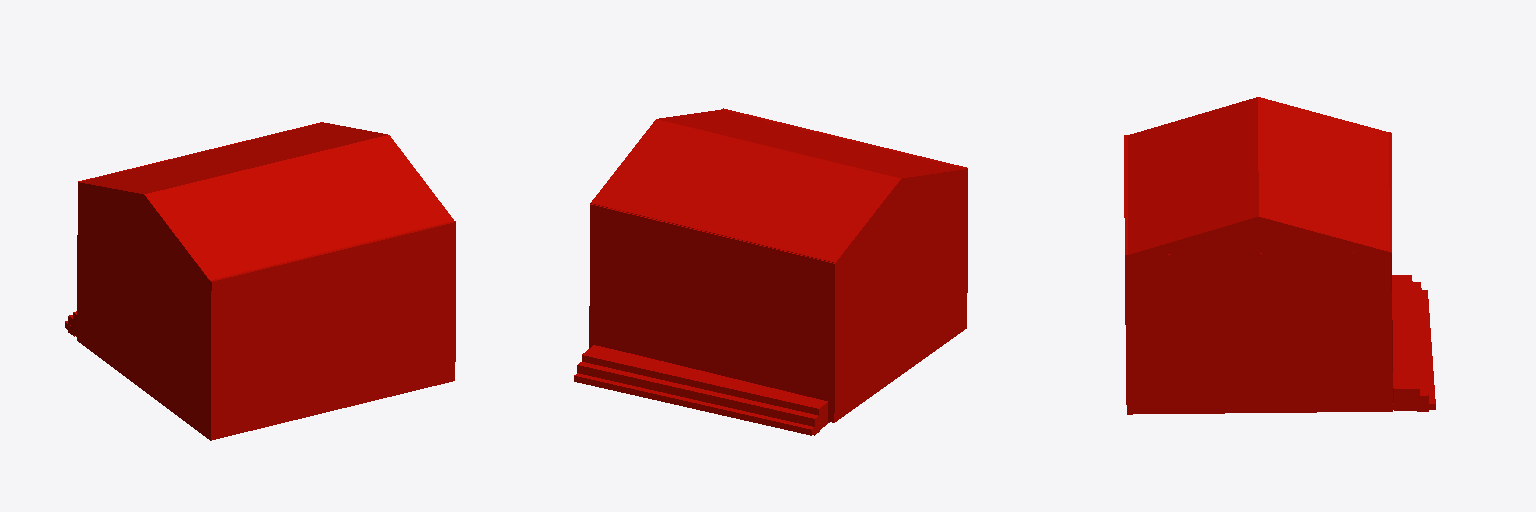
Rendered from Housebody_LOD0.obj.
3 views of the same model, side by side, from view 1: azimuth 30°, elevation 25°; view 2: azimuth 150°, elevation 25°; view 3: azimuth 270°, elevation 25° (orthographic).
Parts seen in each view (by area): view 1: Cube, Cube.006_Cube.007; view 2: Cube, Cube.006_Cube.007, Cube.002; view 3: Cube, Cube.006_Cube.007, Cube.002.
Boxes of the visible parts, x1,y1,x2,y2 form: Cube: [77, 122, 455, 440]; Cube.006_Cube.007: [79, 122, 453, 280]; Cube: [589, 108, 967, 422]; Cube.006_Cube.007: [590, 110, 966, 263]; Cube.002: [574, 345, 829, 435]; Cube: [1124, 132, 1392, 414]; Cube.006_Cube.007: [1128, 97, 1391, 254]; Cube.002: [1392, 275, 1435, 411].
Bounding box in the file's own units: 0.8774 × 0.6788 × 0.9645.